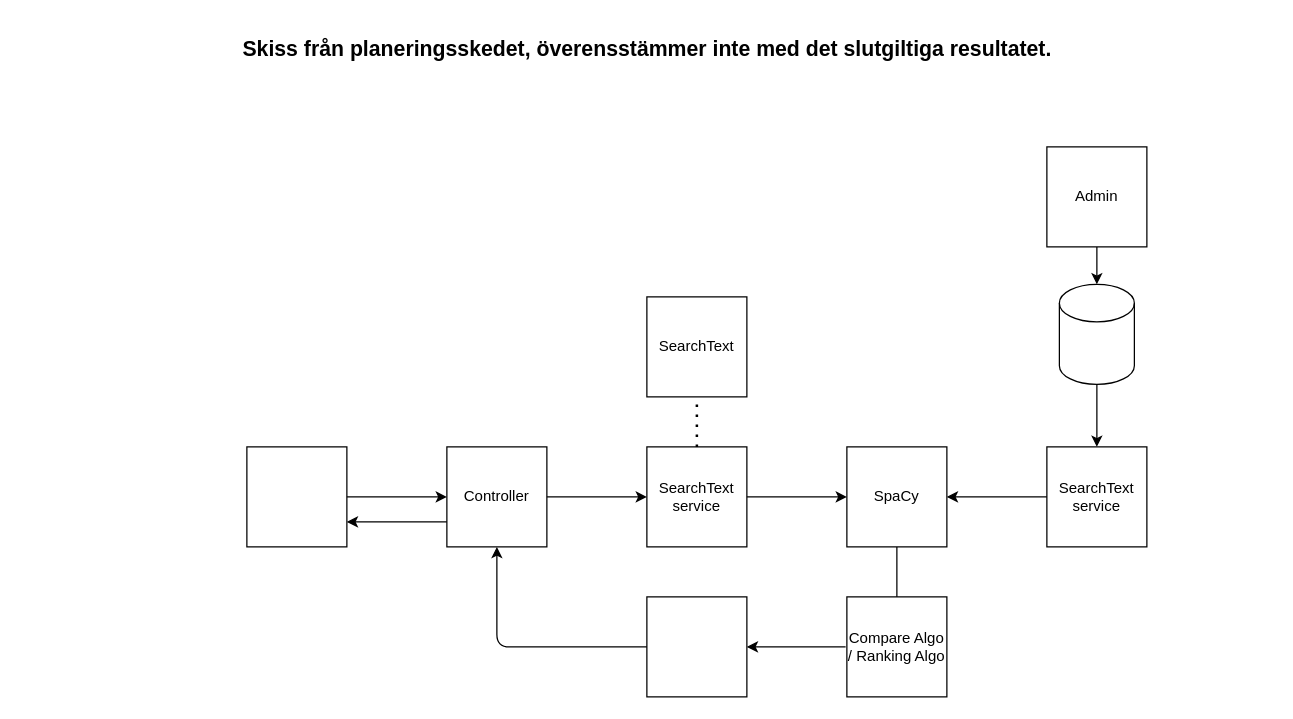
Image size: 1293x719. Some labels were removed from this diagram. Here are the shapes that lost their labels. From the top down, the box of each, then its label:
(1058, 283, 1134, 384): db
(246, 446, 347, 547): Vue
(646, 596, 747, 697): Result Service
